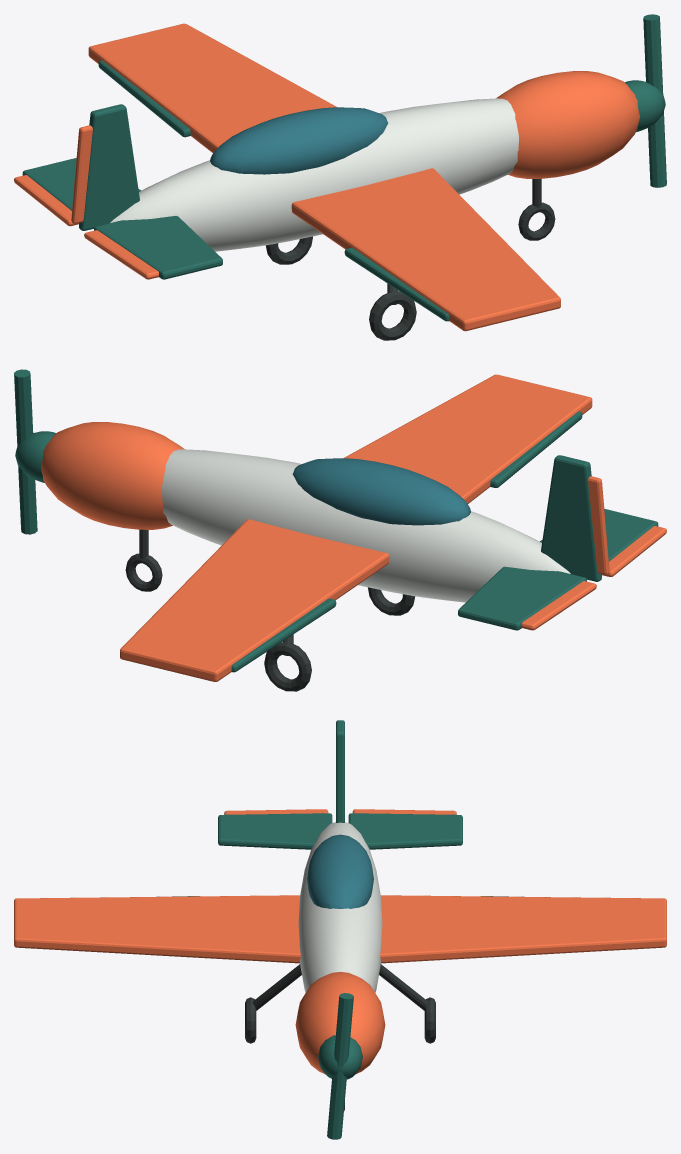
Rendered from course-aircraft.glb.
3 views of the same model, one above another, from view 1: azimuth 30°, elevation 25°; view 2: azimuth 150°, elevation 25°; view 3: azimuth 270°, elevation 25° (orthographic). The views are drawn at different scales.
Visible parts, largest first — view 1: Fuselage, Wing_Left, Wing_Right, Nose_Cowling, Canopy, VerticalTail, HorizontalTail_Left, HorizontalTail_Right, Main_Wheel_Left, Rudder, Propeller_Blade_Top, Aileron_Left (+7 smaller); view 2: Fuselage, Wing_Right, Wing_Left, Nose_Cowling, Canopy, VerticalTail, HorizontalTail_Right, HorizontalTail_Left, Main_Wheel_Right, Rudder, Aileron_Right, Propeller_Blade_Top (+7 smaller); view 3: Wing_Left, Wing_Right, Fuselage, Nose_Cowling, Canopy, HorizontalTail_Left, HorizontalTail_Right, Spinner, Propeller_Blade_Top, Propeller_Blade_Bottom, VerticalTail, Main_Gear_Left (+1 smaller).
Part boxes in pixels (box(x1,y1,x2,y2)): Fuselage: box(110, 98, 518, 251); Wing_Left: box(291, 168, 560, 331); Wing_Right: box(88, 23, 336, 152); Nose_Cowling: box(496, 71, 639, 178); Canopy: box(210, 107, 388, 174); VerticalTail: box(79, 104, 139, 230); HorizontalTail_Left: box(94, 216, 222, 279); HorizontalTail_Right: box(22, 158, 141, 210); Main_Wheel_Left: box(369, 291, 416, 340); Rudder: box(71, 125, 92, 223); Propeller_Blade_Top: box(643, 14, 663, 93); Aileron_Left: box(344, 247, 449, 321); Fuselage: box(162, 449, 570, 602); Wing_Right: box(120, 519, 389, 681); Wing_Left: box(343, 374, 592, 503); Nose_Cowling: box(41, 422, 184, 529); Canopy: box(292, 458, 470, 525); VerticalTail: box(541, 455, 601, 581); HorizontalTail_Right: box(458, 566, 586, 630); HorizontalTail_Left: box(539, 509, 658, 561); Main_Wheel_Right: box(264, 642, 311, 691); Rudder: box(588, 476, 609, 574); Aileron_Right: box(231, 598, 336, 672); Propeller_Blade_Top: box(14, 369, 33, 445); Wing_Left: box(14, 895, 300, 963); Wing_Right: box(380, 895, 666, 963); Fuselage: box(298, 822, 382, 992); Nose_Cowling: box(295, 972, 385, 1074); Canopy: box(307, 834, 373, 908); HorizontalTail_Left: box(218, 813, 332, 849); HorizontalTail_Right: box(348, 813, 462, 849); Spinner: box(318, 1035, 362, 1079); Propeller_Blade_Top: box(334, 993, 353, 1066); Propeller_Blade_Bottom: box(327, 1071, 346, 1139); VerticalTail: box(336, 720, 344, 822); Main_Gear_Left: box(252, 964, 301, 1010).
Bounding box in the file's own units: 1.45 × 0.587 × 1.6.
